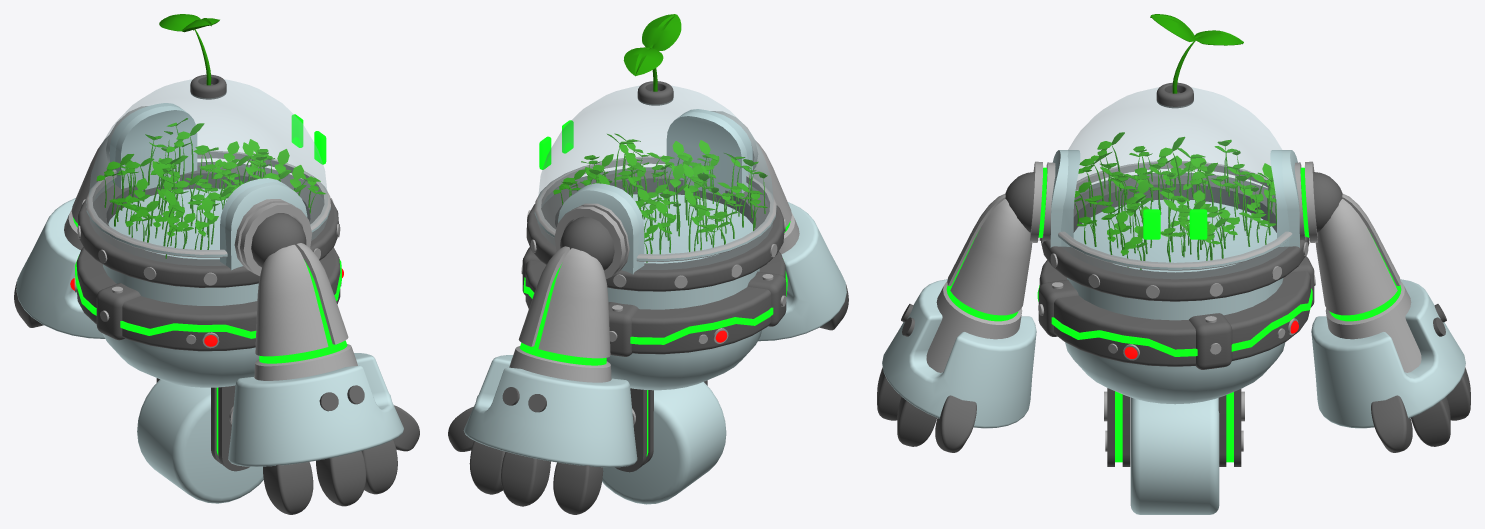
File: TestAEffacer.fbx
The picture shows the model from 3 angles, left to right: view 1: azimuth 30°, elevation 25°; view 2: azimuth 150°, elevation 25°; view 3: azimuth 270°, elevation 25°; orthographic projection. The views are drawn at different scales.
Visible parts, largest first — view 1: Cylinder.034; view 2: Cylinder.034; view 3: Cylinder.034.
Part boxes in pixels (bbox=[...]): Cylinder.034: bbox=[14, 14, 419, 514]; Cylinder.034: bbox=[448, 14, 848, 514]; Cylinder.034: bbox=[877, 14, 1470, 514].
Bounding box in the file's own units: 205 × 398 × 438.
